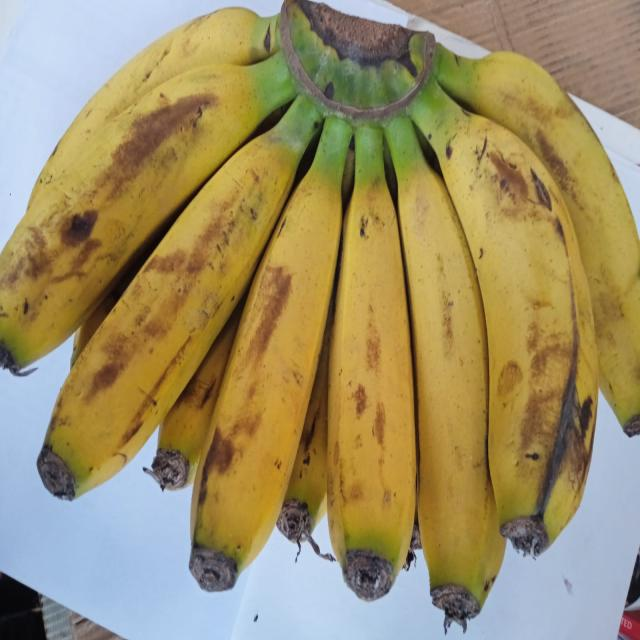banana: (38, 96, 321, 499), (0, 54, 295, 372), (412, 78, 597, 555), (434, 45, 639, 435), (190, 118, 351, 590), (386, 118, 505, 628), (40, 7, 279, 182), (328, 125, 415, 600), (151, 302, 243, 490), (277, 304, 333, 553), (71, 251, 150, 366), (71, 286, 121, 366)
